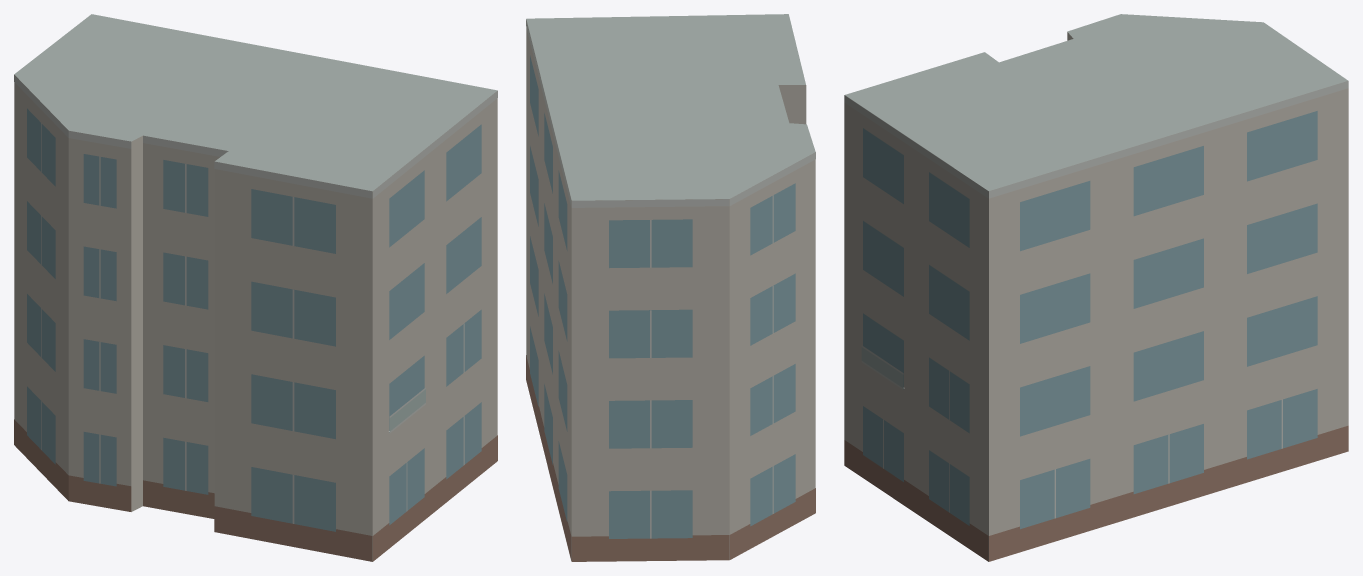
File: survey-upis-32798713.glb
The picture shows the model from 3 angles, left to right: view 1: azimuth 30°, elevation 25°; view 2: azimuth 150°, elevation 25°; view 3: azimuth 270°, elevation 25°; orthographic projection. The views are drawn at different scales.
Visible parts, largest first — view 1: survey-upis-32798713.tmp; view 2: survey-upis-32798713.tmp; view 3: survey-upis-32798713.tmp.
Boxes of the visible parts, <box> form: survey-upis-32798713.tmp: <box>14,14,497,561</box>; survey-upis-32798713.tmp: <box>526,14,815,561</box>; survey-upis-32798713.tmp: <box>844,14,1348,561</box>.
Bounding box in the file's own units: 12.47 × 12.15 × 14.98.
